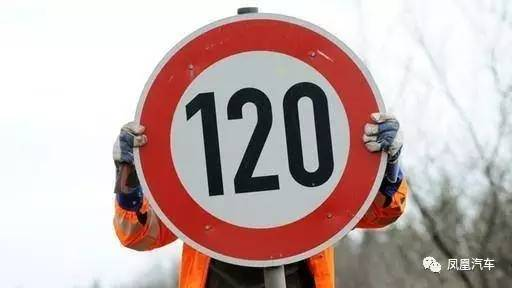Speed_limit_120km: (129, 12, 391, 269)
